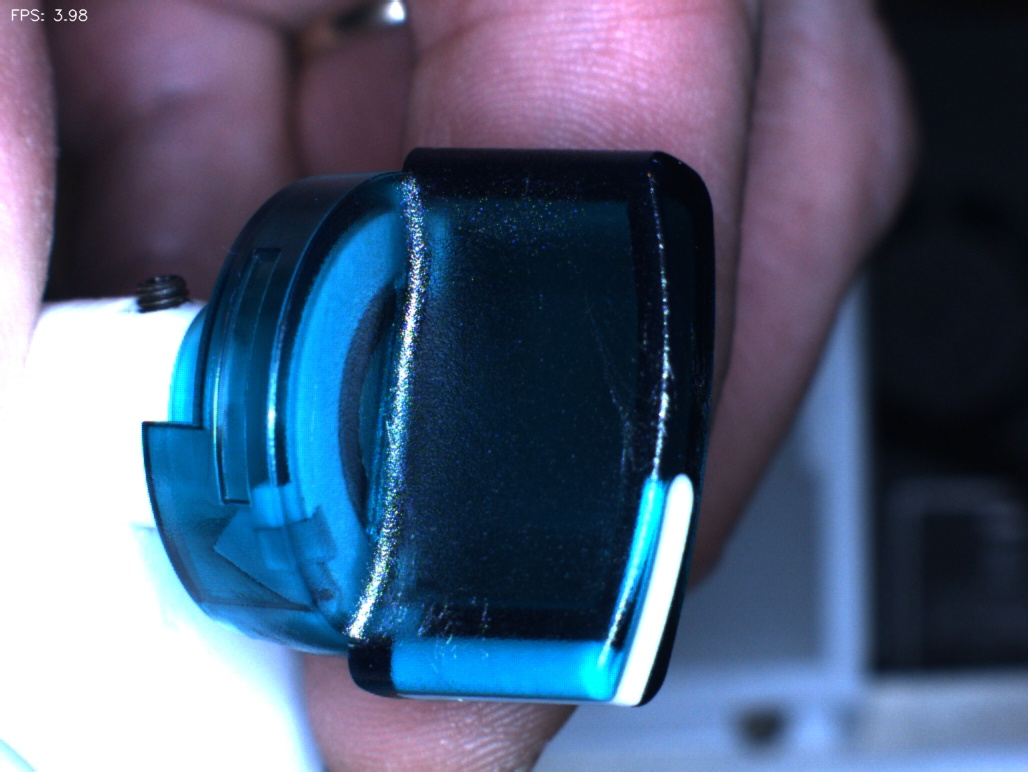Givrage: (406, 587, 507, 676)
